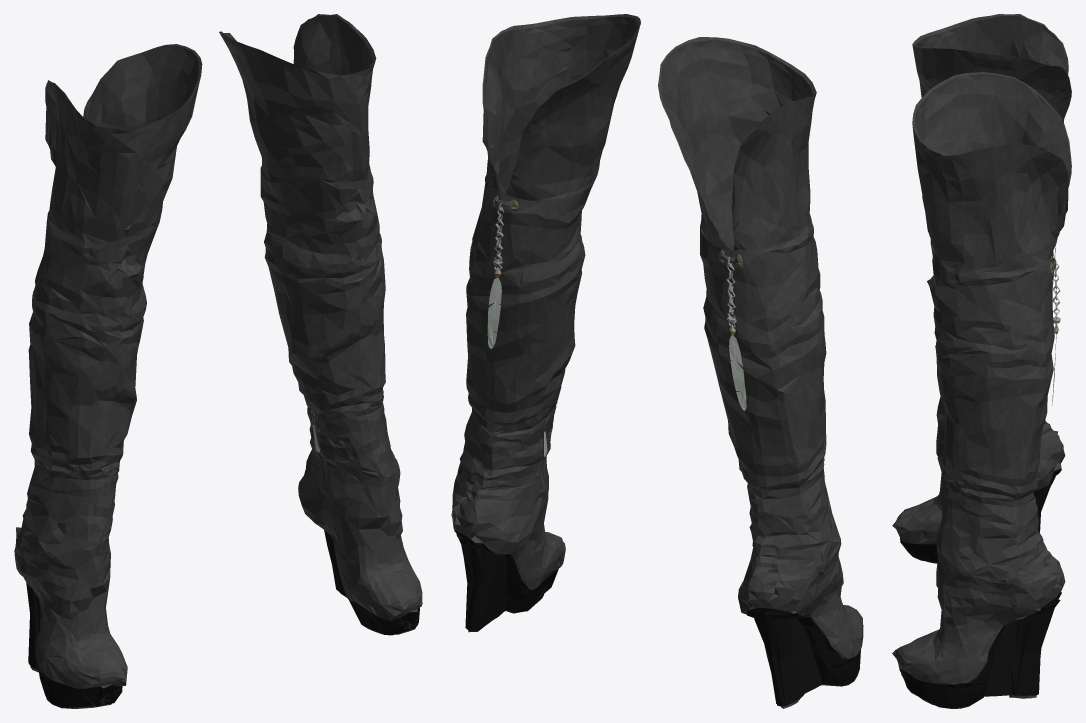
The model's file is mhw_elvs_wedge_tall_boots1.glb.
The picture shows the model from 3 angles, left to right: view 1: azimuth 30°, elevation 25°; view 2: azimuth 150°, elevation 25°; view 3: azimuth 270°, elevation 25°; orthographic projection. The views are drawn at different scales.
Visible parts, largest first — view 1: mhw_elvs_wedge_tall_boots1; view 2: mhw_elvs_wedge_tall_boots1; view 3: mhw_elvs_wedge_tall_boots1.
Boxes of the visible parts, box(x1,y1,x2,y2) form: mhw_elvs_wedge_tall_boots1: box(14, 14, 422, 708); mhw_elvs_wedge_tall_boots1: box(451, 14, 863, 708); mhw_elvs_wedge_tall_boots1: box(892, 14, 1071, 708).
Bounding box in the file's own units: 0.5544 × 0.868 × 0.2492.
1 material, 1 textured.
